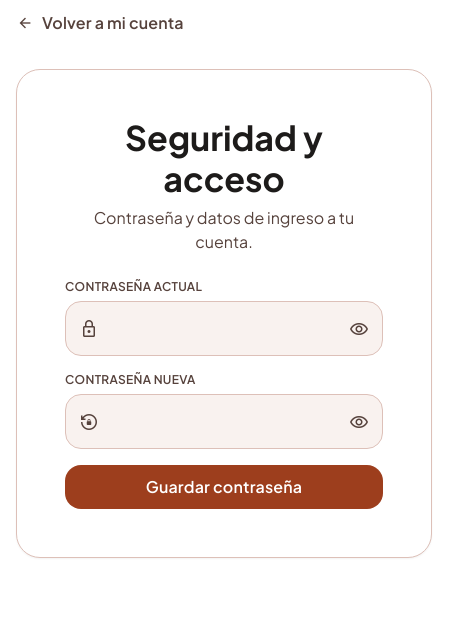
Test case: Seguridad — cambiar contraseña › una respuesta 409 (cambió por otro lado) muestra el mensaje del backend, sin romper la pantalla
Type "vieja123" into the password field labelled "Contraseña actual".
click(224, 329); type("vieja123")  # box [65,301,383,356]
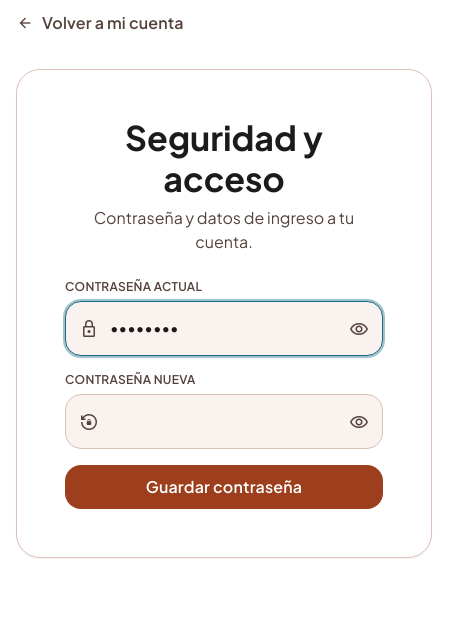
Type "nueva456" into the password field labelled "Contraseña nueva".
click(224, 422); type("nueva456")  # box [65,394,383,449]
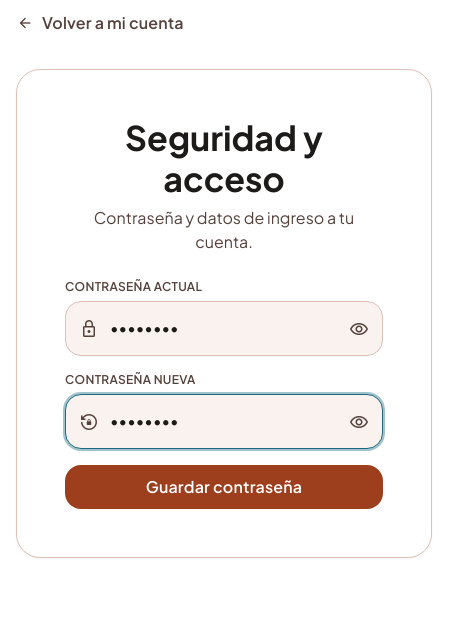
Click the button "Guardar contraseña".
click(224, 487)  # box [65,465,383,509]
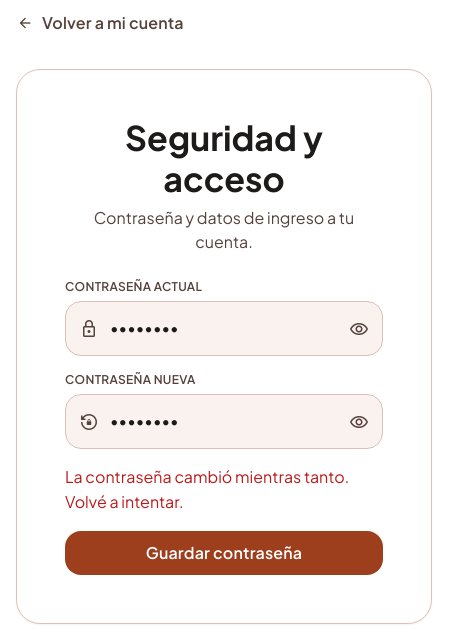
Expected: the text "La contraseña cambió mientras tanto. Volvé a intentar." is shown, [65,465,383,515]
